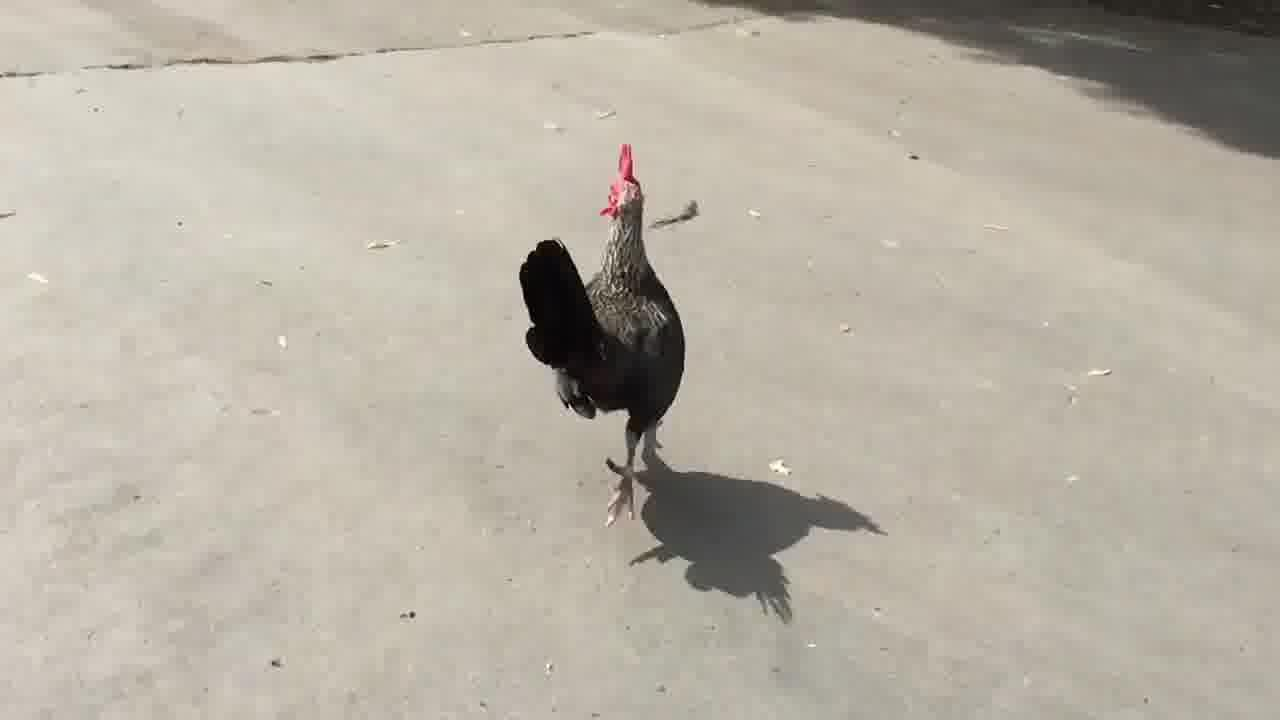Normal: (520, 144, 696, 546)
